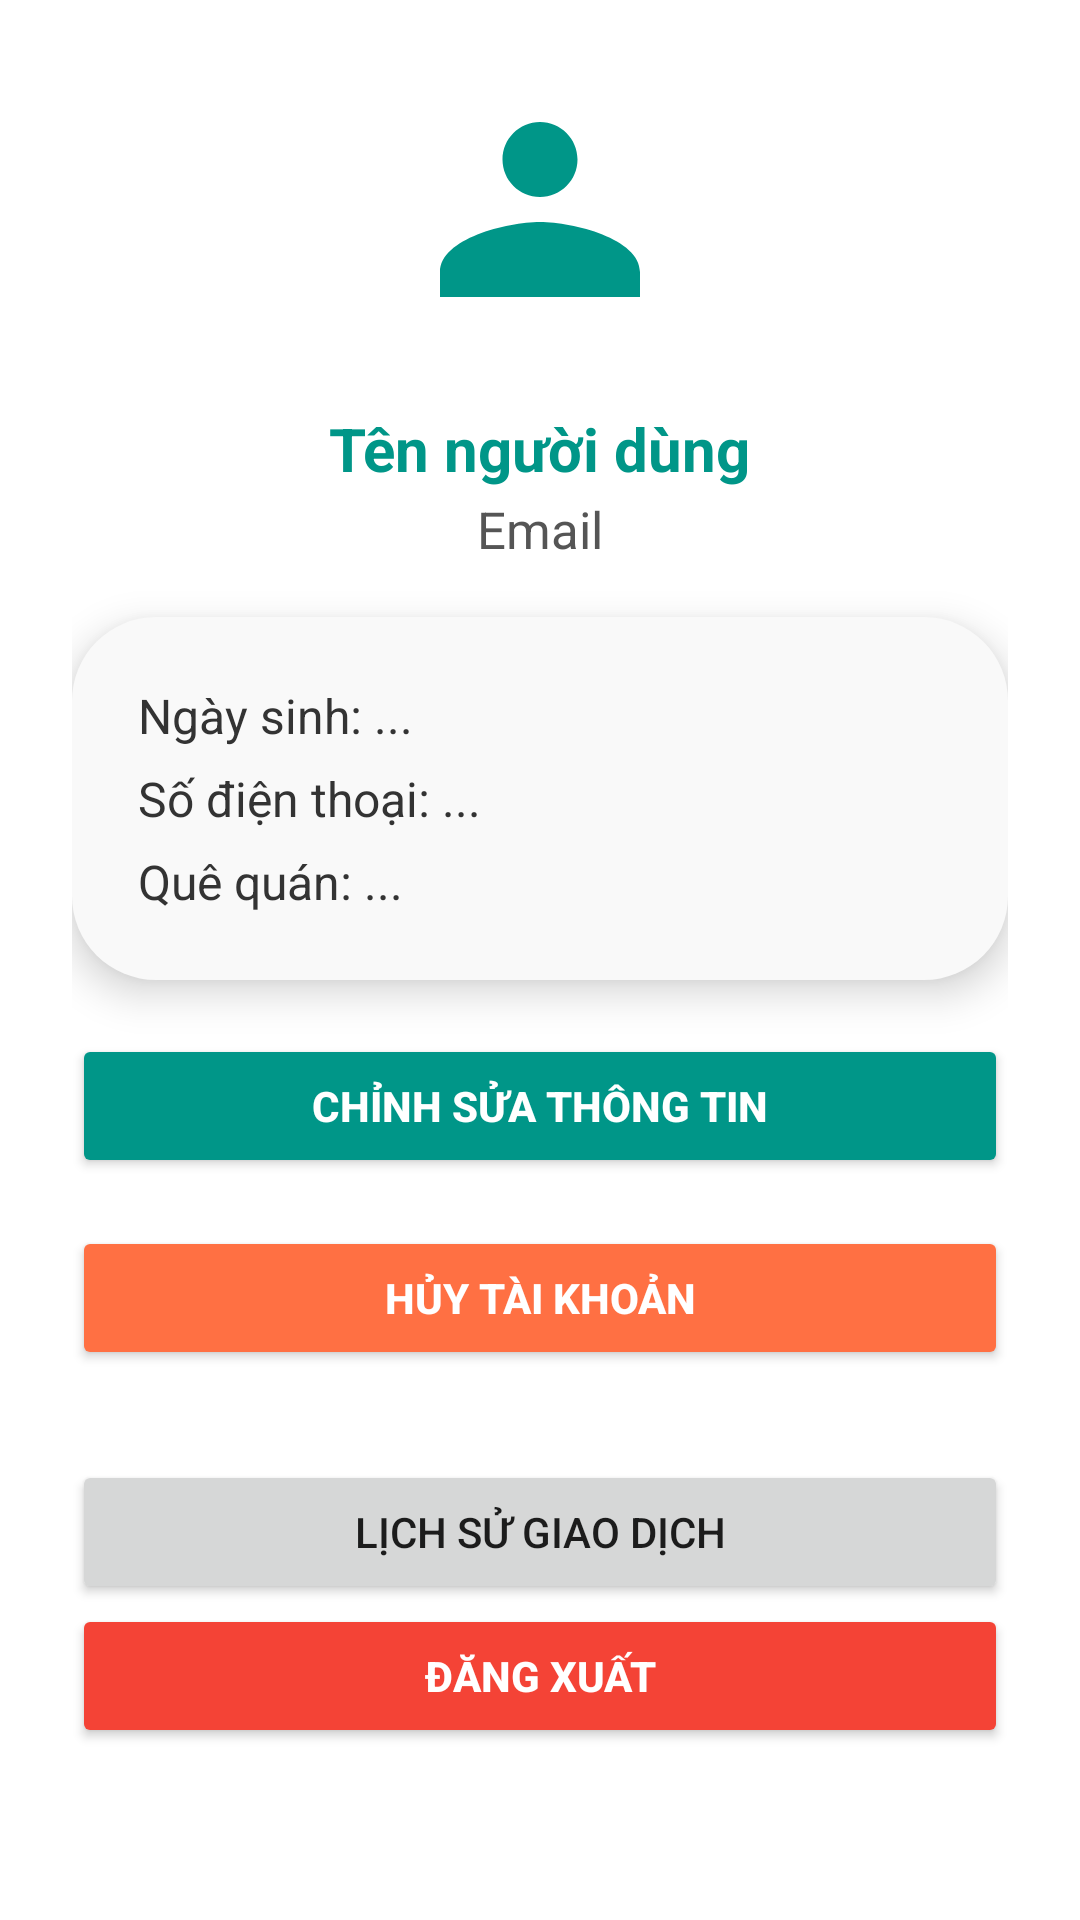

Screen size 1080*1920. Icon name, then its center in pixels as point (x, y):
Ảnh đại diện: point (540, 209)
